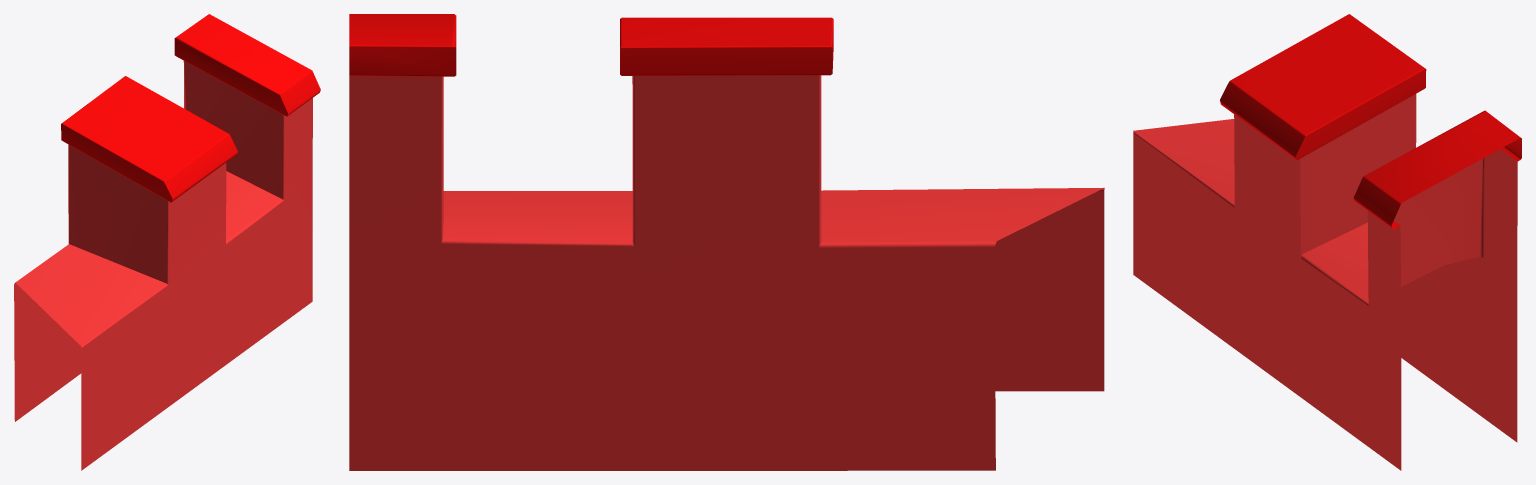
File: Battlements_Angle.fbx
3 renders of one model, left to right at view 1: azimuth 30°, elevation 25°; view 2: azimuth 150°, elevation 25°; view 3: azimuth 270°, elevation 25°, orthographic. The views are drawn at different scales.
Parts seen in each view (by area): view 1: Battlements_Angle VC; view 2: Battlements_Angle VC; view 3: Battlements_Angle VC.
Boxes of the visible parts, left/top/right/bottom form: Battlements_Angle VC: left=14, top=14, right=320, bottom=470; Battlements_Angle VC: left=349, top=14, right=1104, bottom=470; Battlements_Angle VC: left=1133, top=14, right=1521, bottom=470.
Size of the model in its own units: 263 by 188 by 218.
